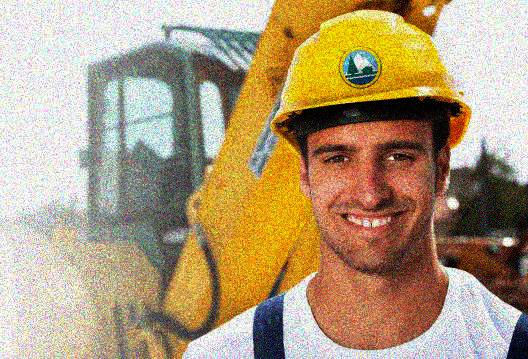helmet: (267, 11, 471, 275)
